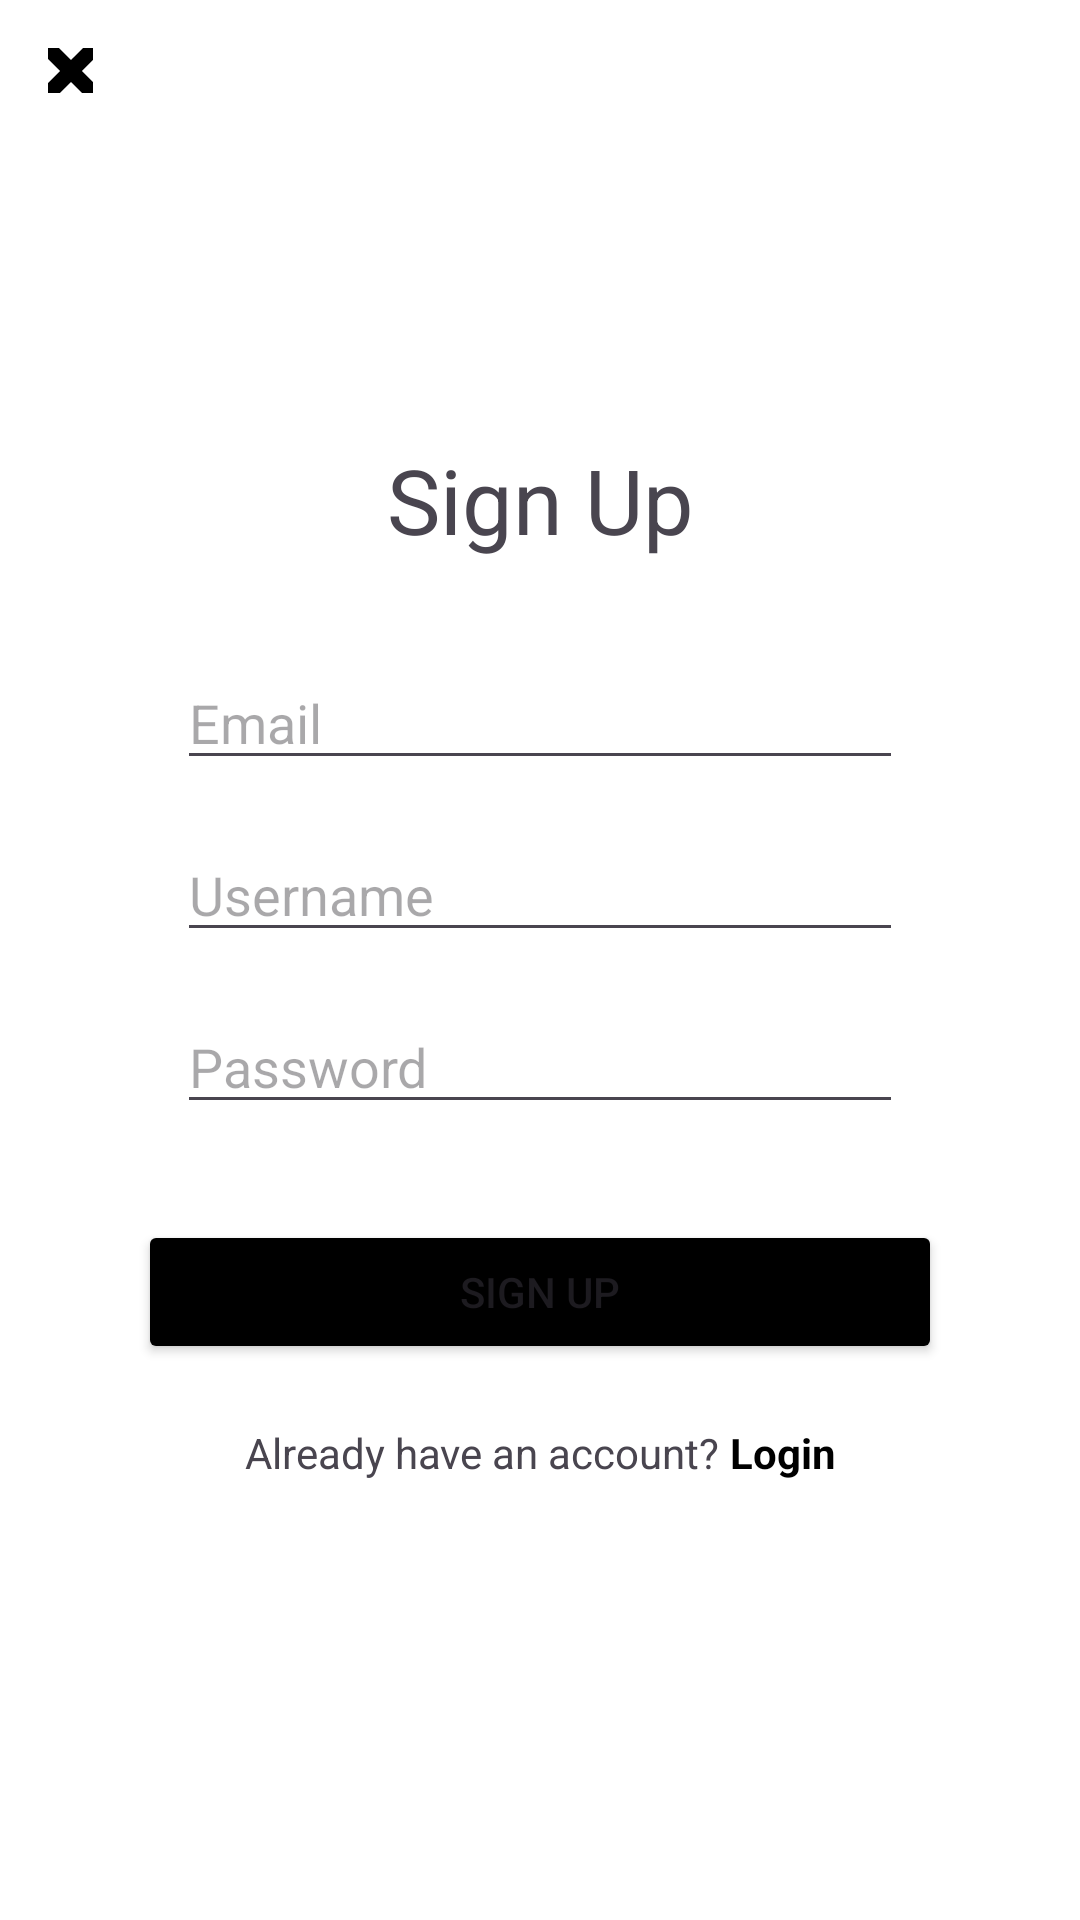

Icons on this 1080px x 1920px Android screen, each with the point to tap as (x=x, y=y):
Back: (x=70, y=70)
